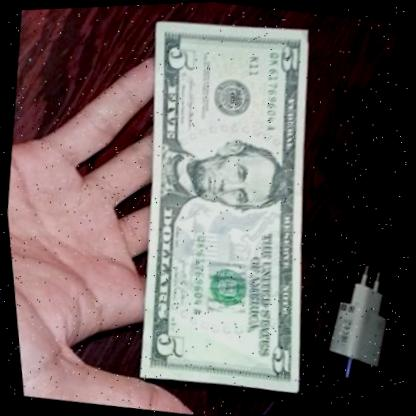five-front: (91, 2, 358, 405)
